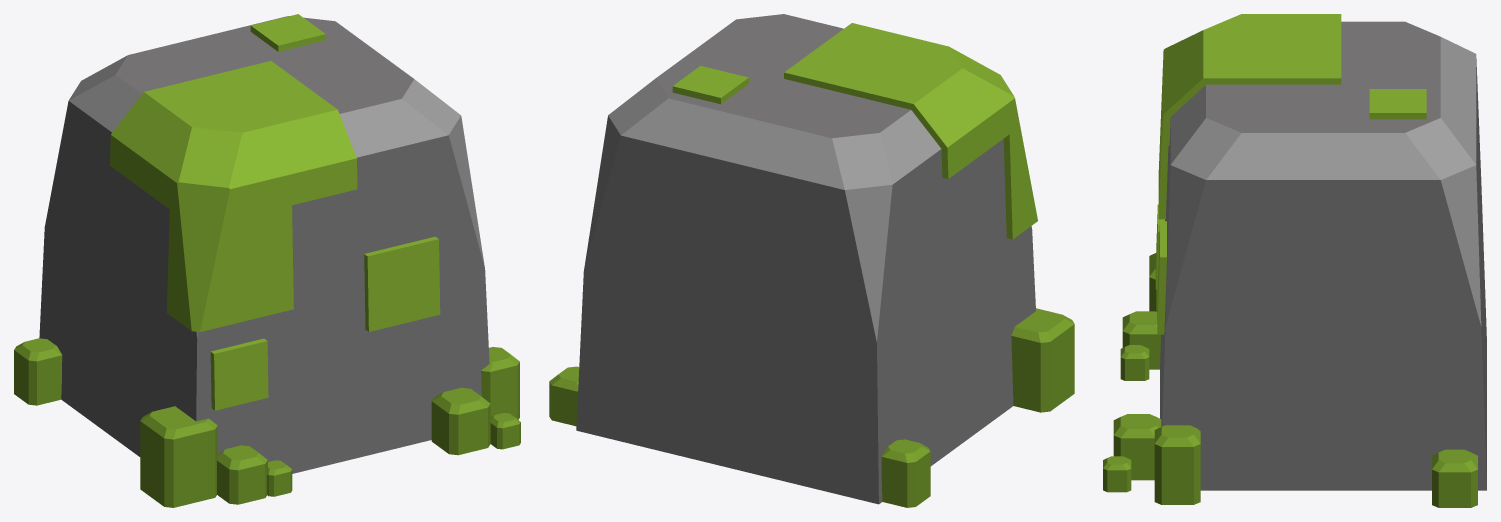
File: Thornwood_MossyBoulder.glb
3 renders of one model, left to right at view 1: azimuth 30°, elevation 25°; view 2: azimuth 150°, elevation 25°; view 3: azimuth 270°, elevation 25°, orthographic. The views are drawn at different scales.
Visible parts, largest first — view 1: boulder_body, moss_front_left_wrap, boulder_chamfers, grass_FL_large, moss_front_square_right, moss_front_square_lower_left, grass_FR_wide, grass_BL, grass_FL_medium, grass_FR_tall, moss_top_back_right, grass_FR_small (+1 smaller); view 2: boulder_body, boulder_chamfers, moss_front_left_wrap, grass_FL_large, grass_BL, moss_top_back_right, grass_BR; view 3: boulder_body, boulder_chamfers, moss_front_left_wrap, grass_FR_tall, grass_BR, grass_FR_wide, moss_top_back_right, grass_FL_medium, grass_FL_small, grass_FR_small, moss_front_square_right, grass_FL_large.
Boxes of the visible parts, bbox=[...] form: boulder_body: bbox=[39, 16, 489, 473]; moss_front_left_wrap: bbox=[109, 61, 357, 331]; boulder_chamfers: bbox=[68, 55, 484, 338]; grass_FL_large: bbox=[140, 406, 217, 507]; moss_front_square_right: bbox=[364, 236, 440, 331]; moss_front_square_lower_left: bbox=[210, 338, 268, 410]; grass_FR_wide: bbox=[431, 387, 490, 455]; grass_BL: bbox=[14, 338, 62, 405]; grass_FL_medium: bbox=[217, 445, 267, 504]; grass_FR_tall: bbox=[481, 347, 519, 419]; moss_top_back_right: bbox=[250, 14, 325, 51]; grass_FR_small: bbox=[490, 413, 520, 449]; boulder_body: bbox=[576, 14, 1035, 504]; boulder_chamfers: bbox=[584, 78, 941, 341]; moss_front_left_wrap: bbox=[784, 23, 1037, 239]; grass_FL_large: bbox=[1011, 308, 1074, 412]; grass_BL: bbox=[881, 439, 930, 507]; moss_top_back_right: bbox=[672, 66, 748, 104]; grass_BR: bbox=[549, 366, 579, 426]; boulder_body: bbox=[1160, 21, 1486, 490]; boulder_chamfers: bbox=[1165, 37, 1481, 326]; moss_front_left_wrap: bbox=[1158, 14, 1341, 219]; grass_FR_tall: bbox=[1154, 425, 1200, 504]; grass_BR: bbox=[1432, 449, 1477, 507]; grass_FR_wide: bbox=[1113, 414, 1161, 480]; moss_top_back_right: bbox=[1369, 89, 1426, 119]; grass_FL_medium: bbox=[1122, 311, 1160, 369]; grass_FL_small: bbox=[1120, 345, 1149, 380]; grass_FR_small: bbox=[1103, 456, 1131, 492]; moss_front_square_right: bbox=[1157, 221, 1166, 334]; grass_FL_large: bbox=[1149, 253, 1157, 311].
Size of the model in its own units: 1.23 by 1.07 by 1.08.
